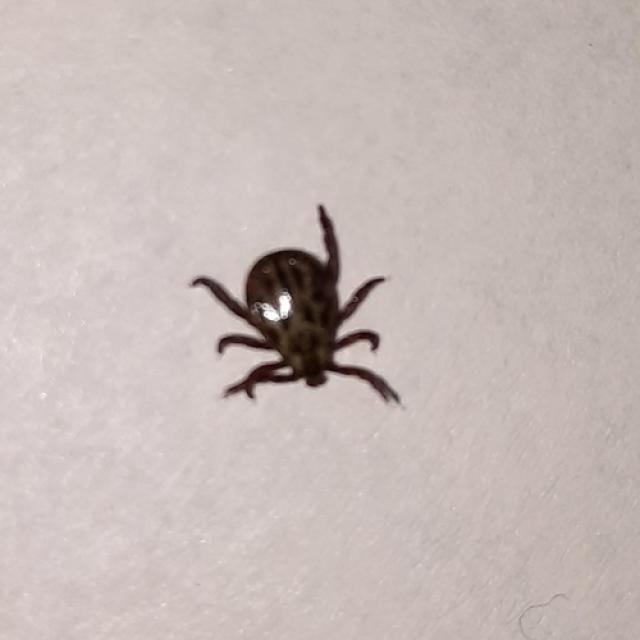Dermacentor Reticulatus-M: (188, 207, 402, 408)
